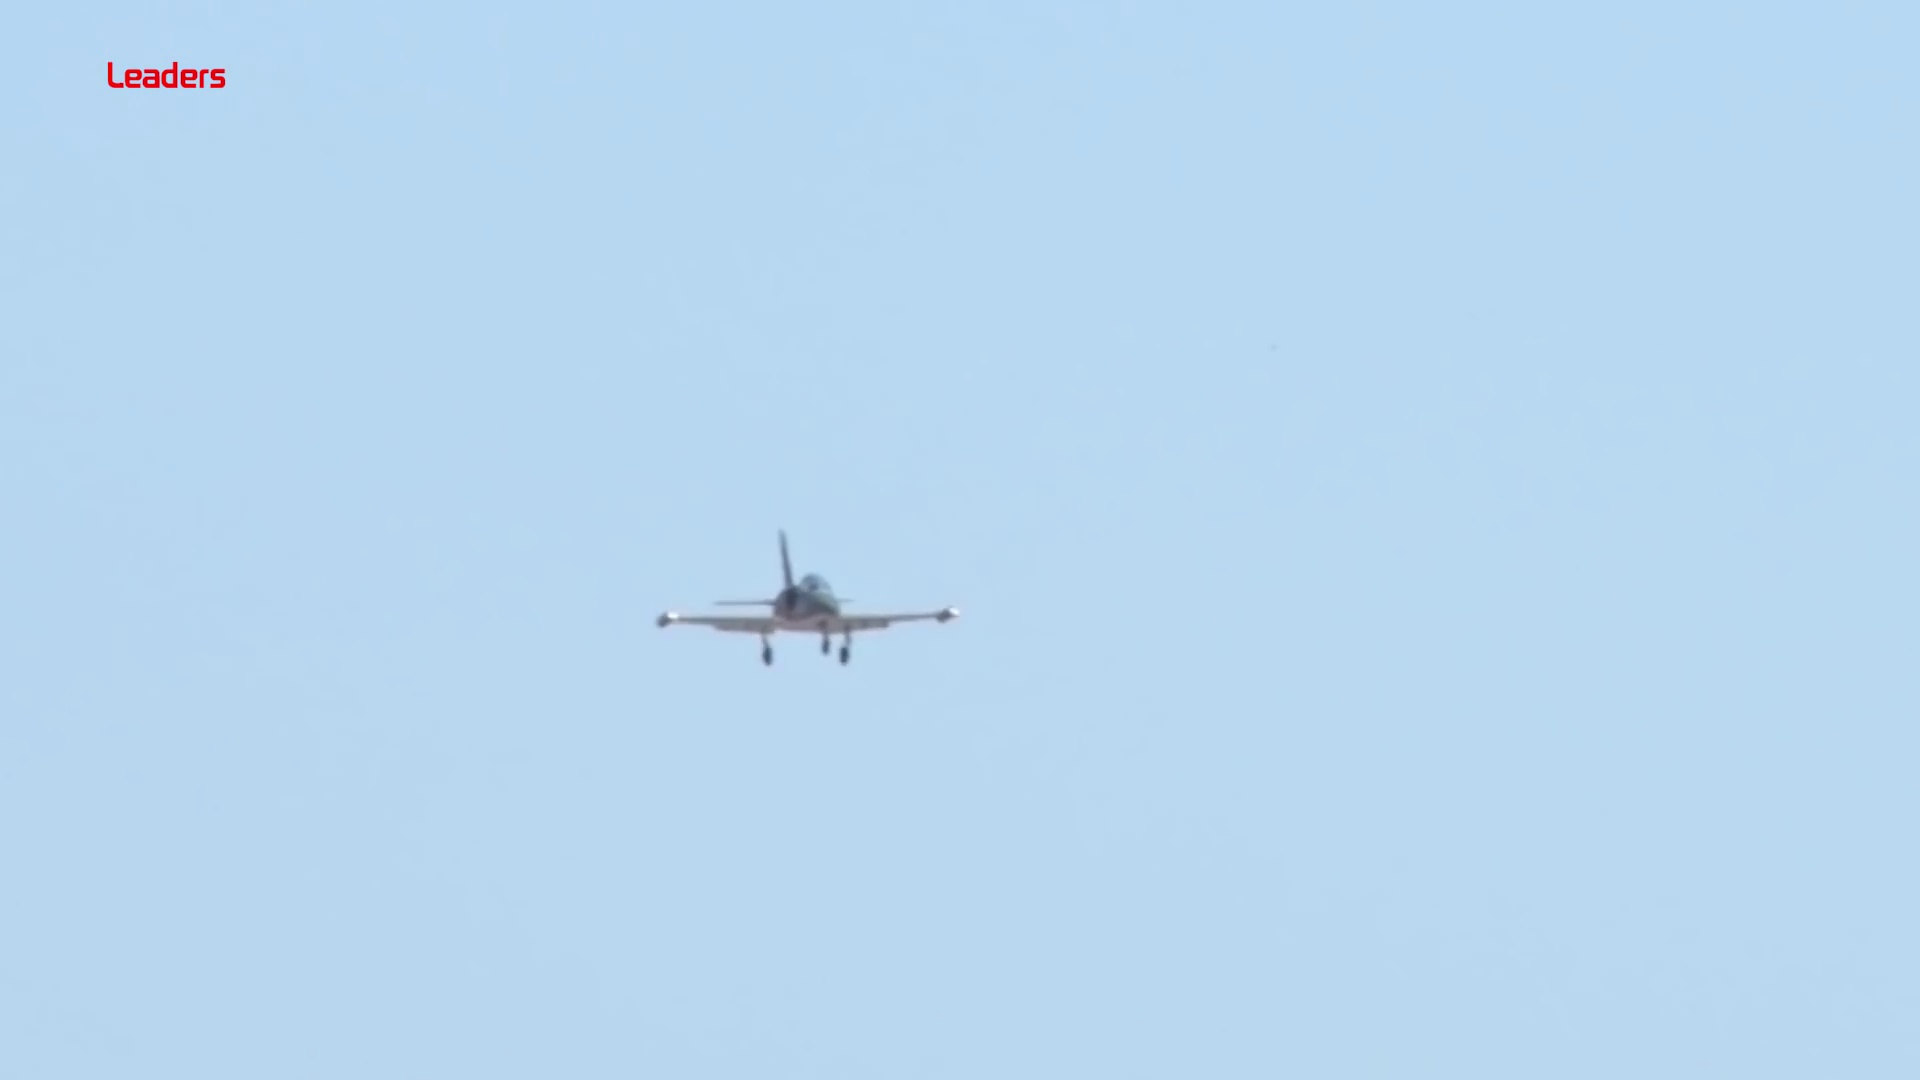Airplane: (655, 524, 961, 665)
